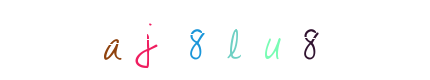8: (160, 0, 240, 80), (201, 0, 281, 80)
A: (105, 0, 185, 80)
J: (156, 0, 236, 80)
L: (175, 0, 255, 80)
U: (182, 0, 262, 80)
